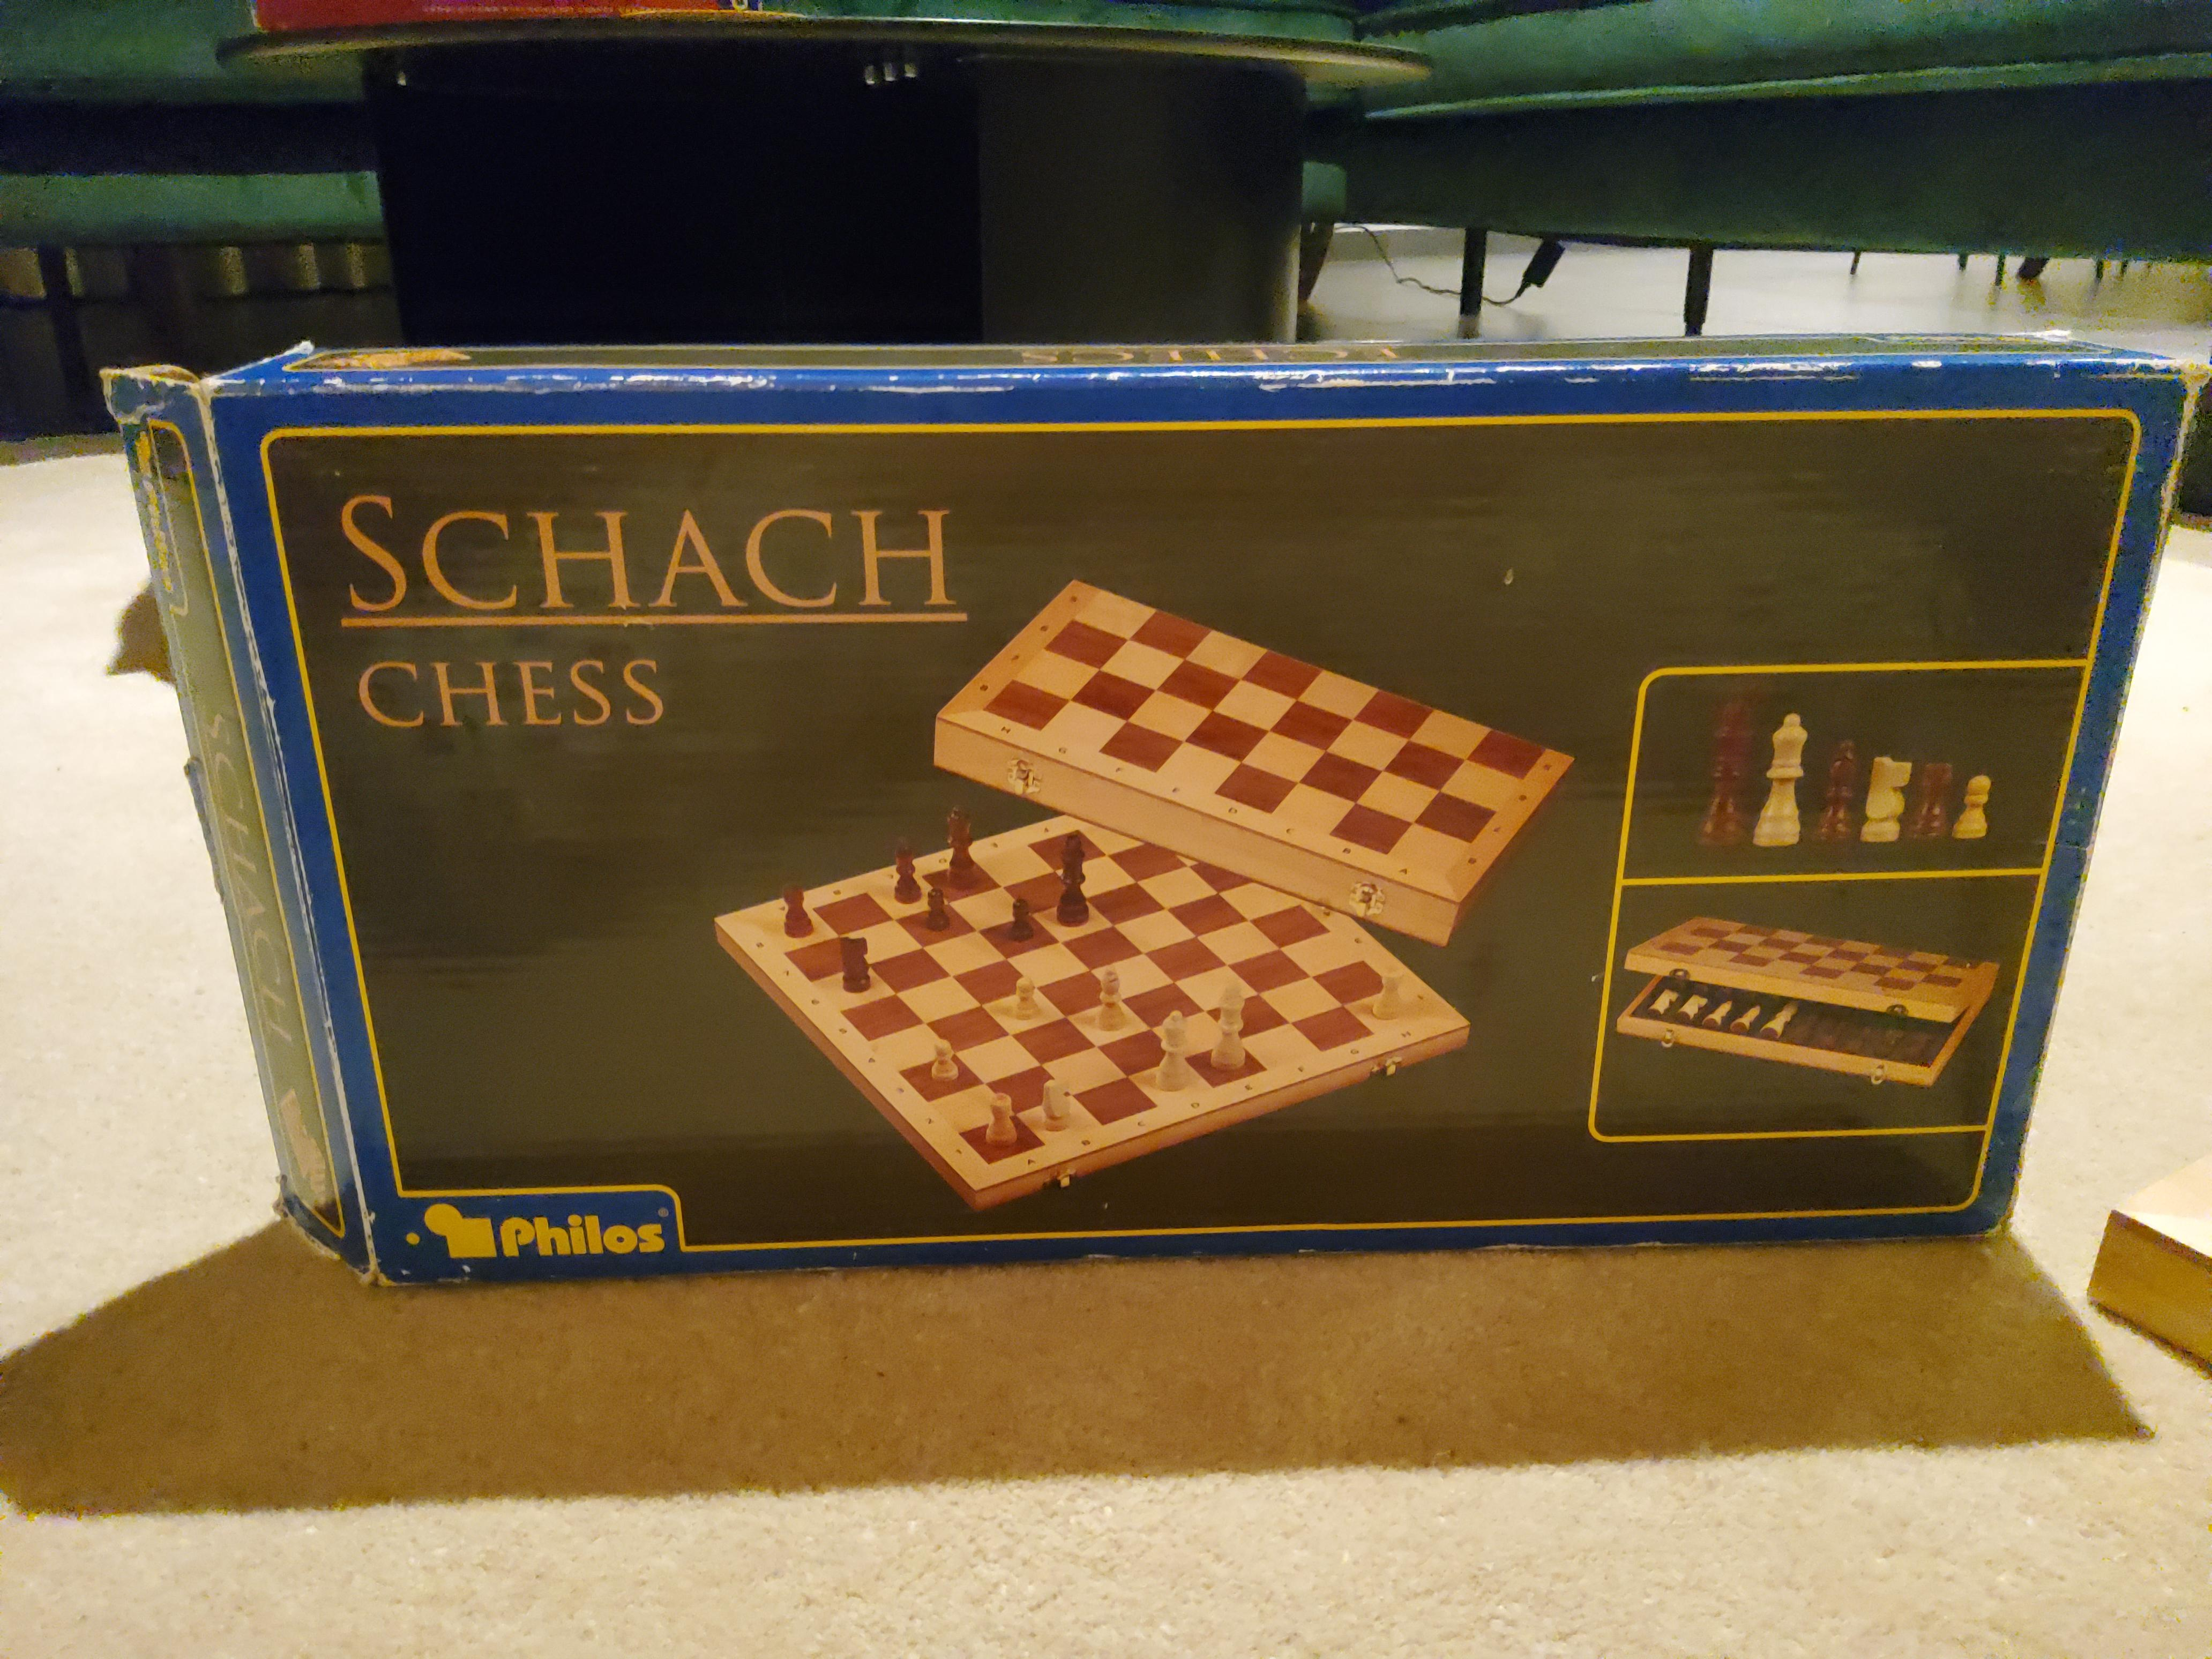schaak: (91, 333, 2196, 1295)
